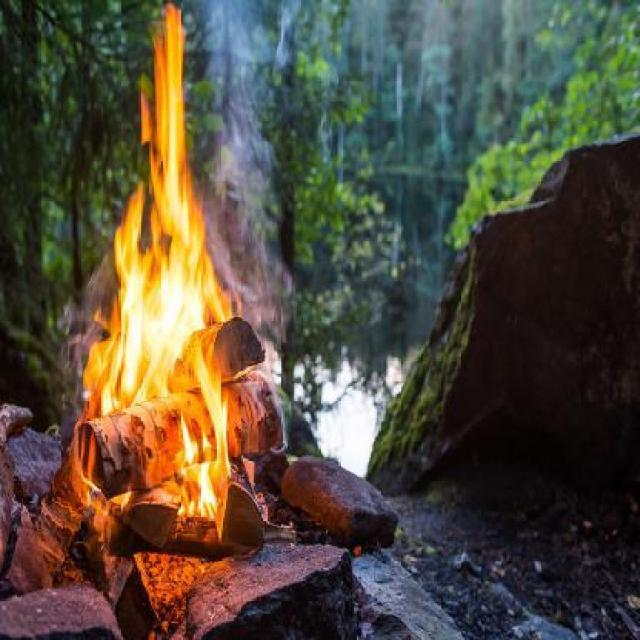Fire: (80, 2, 212, 400), (169, 354, 232, 510)
